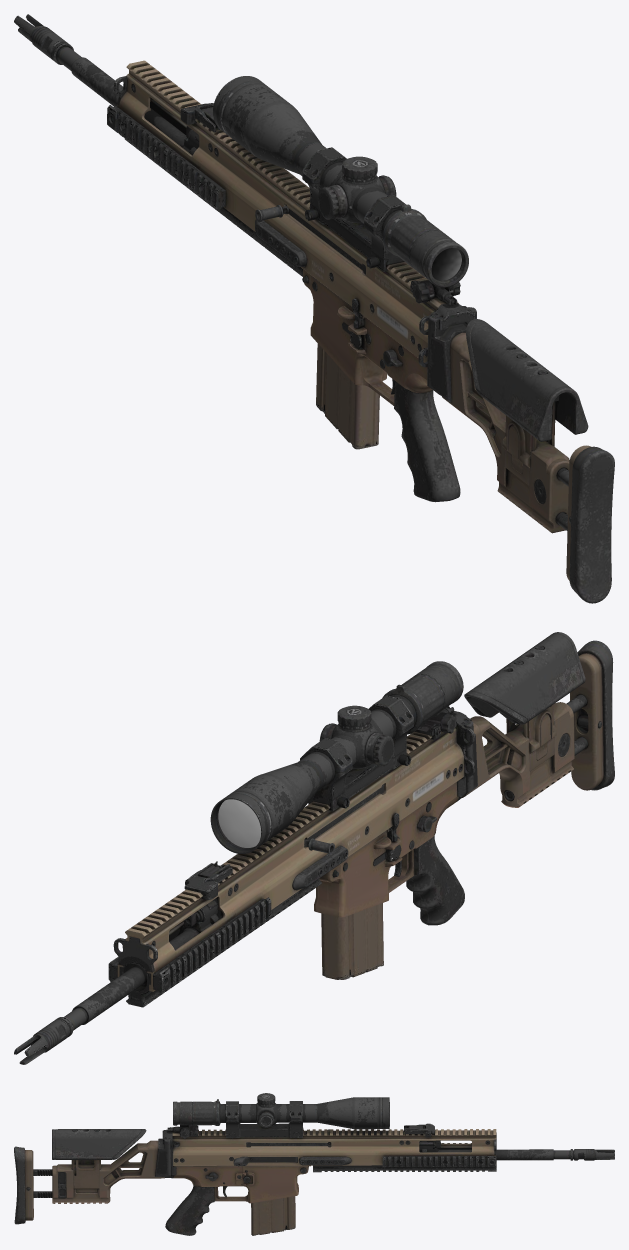
3 renders of one model, top to bottom at view 1: azimuth 30°, elevation 25°; view 2: azimuth 150°, elevation 25°; view 3: azimuth 270°, elevation 25°, orthographic. The views are drawn at different scales.
Visible parts, largest first — view 1: v_sg550_R; view 2: v_sg550_R; view 3: v_sg550_R.
Part boxes in pixels (left/top/right/bottom): v_sg550_R: left=14, top=14, right=614, bottom=603; v_sg550_R: left=14, top=632, right=614, bottom=1064; v_sg550_R: left=14, top=1093, right=614, bottom=1235.
Bounding box in the file's own units: 0.0743 × 0.2761 × 1.08.
2 materials, 2 textured.
